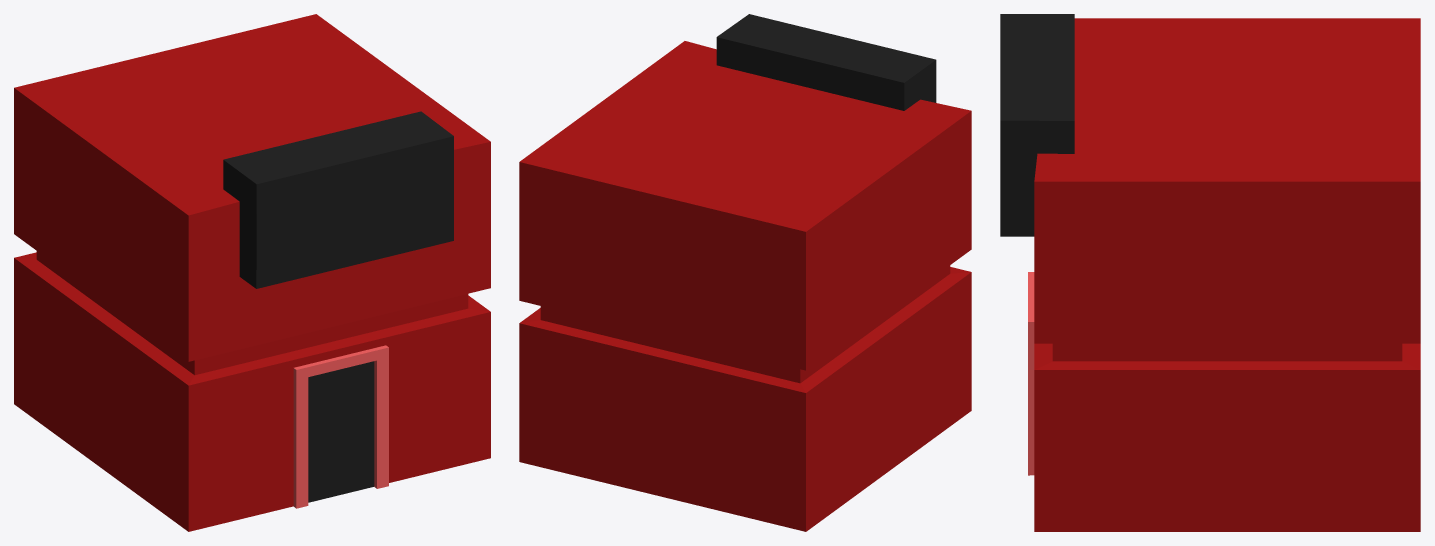
The model's file is Castle.fbx.
The picture shows the model from 3 angles, left to right: view 1: azimuth 30°, elevation 25°; view 2: azimuth 150°, elevation 25°; view 3: azimuth 270°, elevation 25°; orthographic projection. The views are drawn at different scales.
Visible parts, largest first — view 1: kale; view 2: kale; view 3: kale.
Part boxes in pixels (x1,y1,x2,y2): kale: [14, 14, 490, 531]; kale: [519, 14, 971, 531]; kale: [1000, 14, 1420, 531].
Size of the model in its own units: 6.54 by 7.15 by 7.11.
